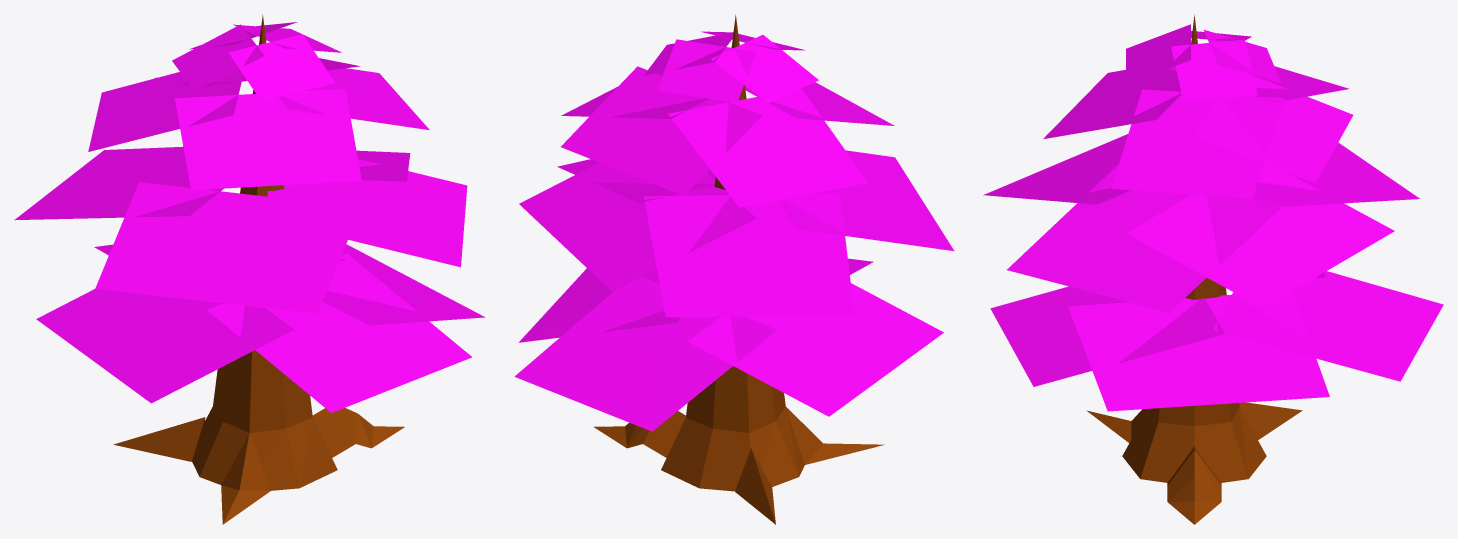
Rendered from mapletree.obj.
3 views of the same model, side by side, from view 1: azimuth 30°, elevation 25°; view 2: azimuth 150°, elevation 25°; view 3: azimuth 270°, elevation 25° (orthographic).
Visible parts, largest first — view 1: mapletree_back; view 2: mapletree_back; view 3: mapletree_back.
Boxes of the visible parts, bbox=[...] form: mapletree_back: bbox=[14, 14, 485, 524]; mapletree_back: bbox=[514, 14, 954, 524]; mapletree_back: bbox=[983, 14, 1443, 524].
Size of the model in its own units: 2.43 by 2.7 by 2.55.
